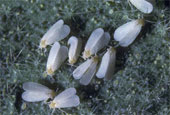whitefly: (38, 19, 71, 54), (113, 15, 146, 47), (80, 27, 111, 61), (72, 52, 101, 87), (95, 41, 120, 81), (21, 81, 58, 105), (45, 41, 68, 78), (45, 87, 80, 110), (68, 36, 83, 67)
